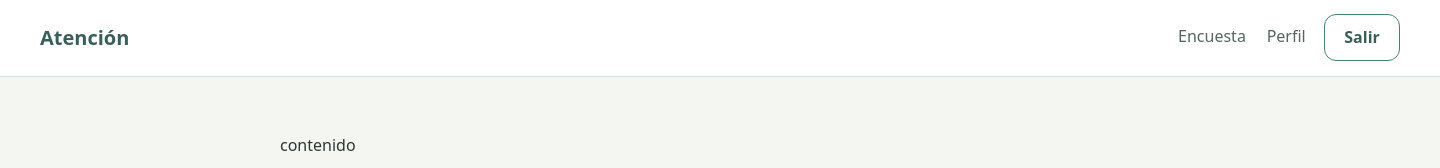
Salir cierra la sesión en el backend y vuelve al login
This screenshot has width=1440, height=168.
Click the button "Salir" at (1362, 38), box [1324, 14, 1400, 61]
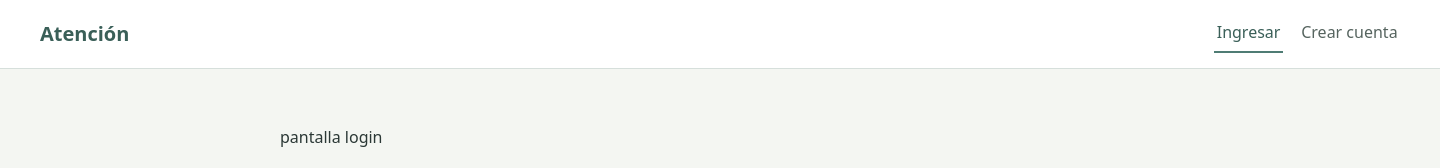
Check: the text "pantalla login" is shown, box [280, 126, 382, 148]
